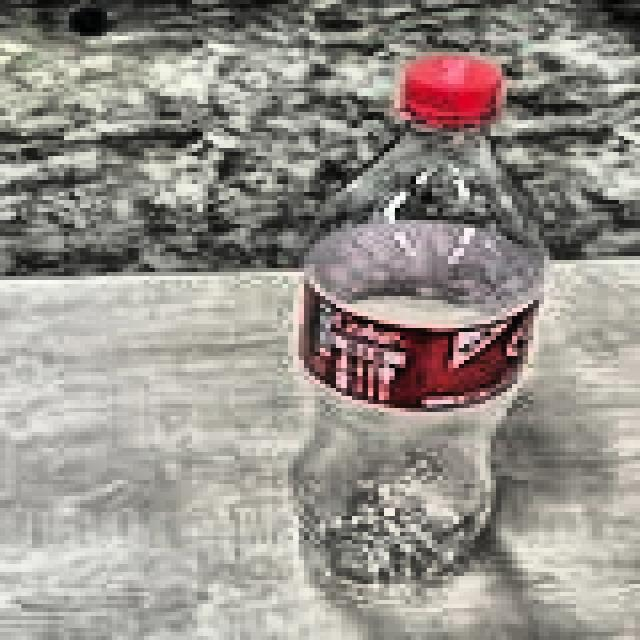plastic: (282, 50, 554, 618)
